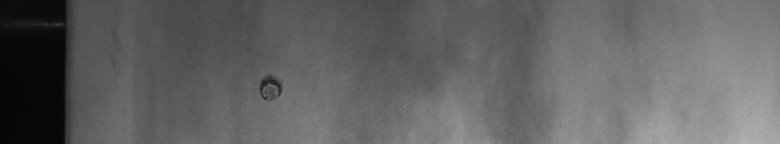fi: (253, 68, 288, 108)
